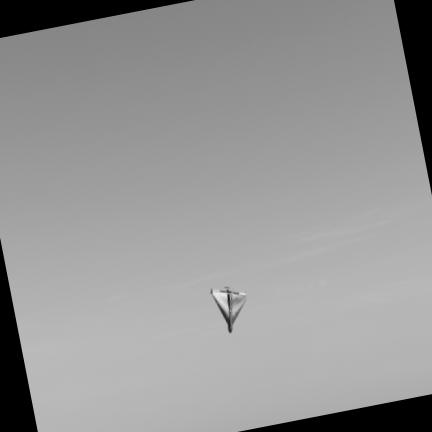Shahed: (212, 288, 246, 332)
